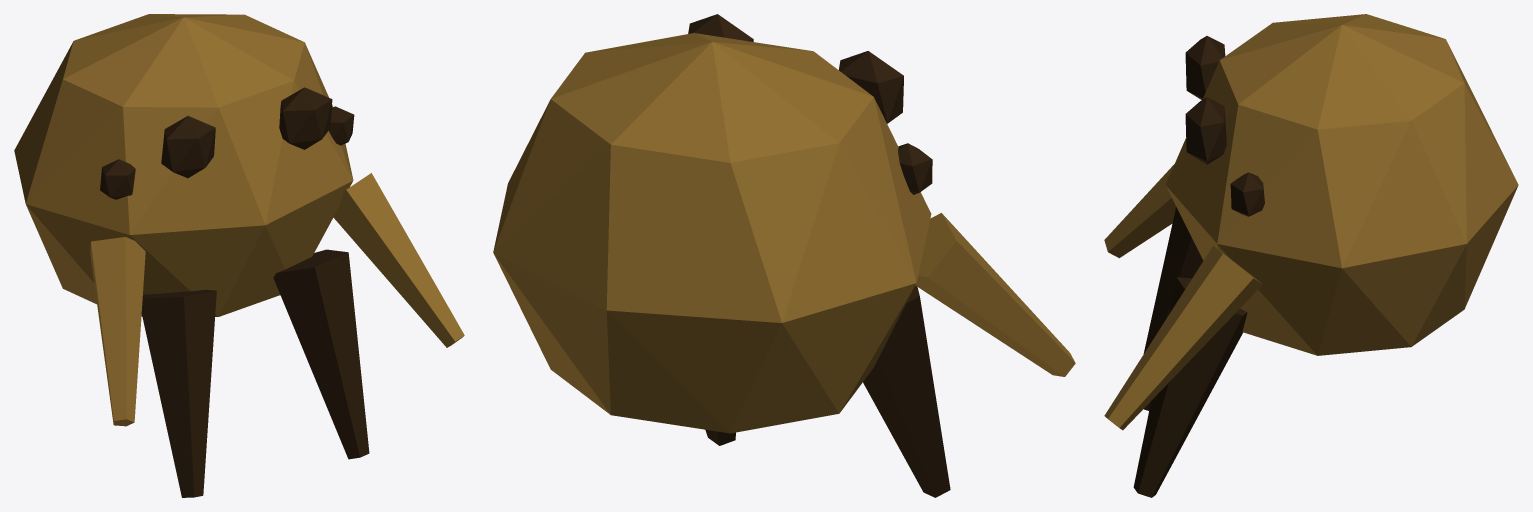
Rendered from spider_3_head.glb.
The picture shows the model from 3 angles, left to right: view 1: azimuth 30°, elevation 25°; view 2: azimuth 150°, elevation 25°; view 3: azimuth 270°, elevation 25°; orthographic projection. The views are drawn at different scales.
Visible parts, largest first — view 1: spider_3_head; view 2: spider_3_head; view 3: spider_3_head.
Boxes of the visible parts, x1,y1,x2,y2 form: spider_3_head: (14, 14, 464, 497); spider_3_head: (493, 14, 1075, 497); spider_3_head: (1104, 14, 1518, 497).
Bounding box in the file's own units: 0.2108 × 0.2271 × 0.1995.
